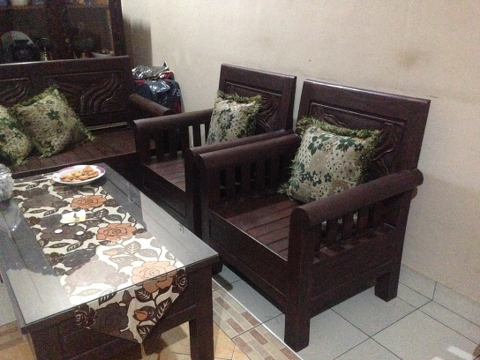kursi: (197, 79, 431, 353), (130, 64, 297, 232), (1, 53, 171, 172)
meja: (1, 161, 221, 360)
